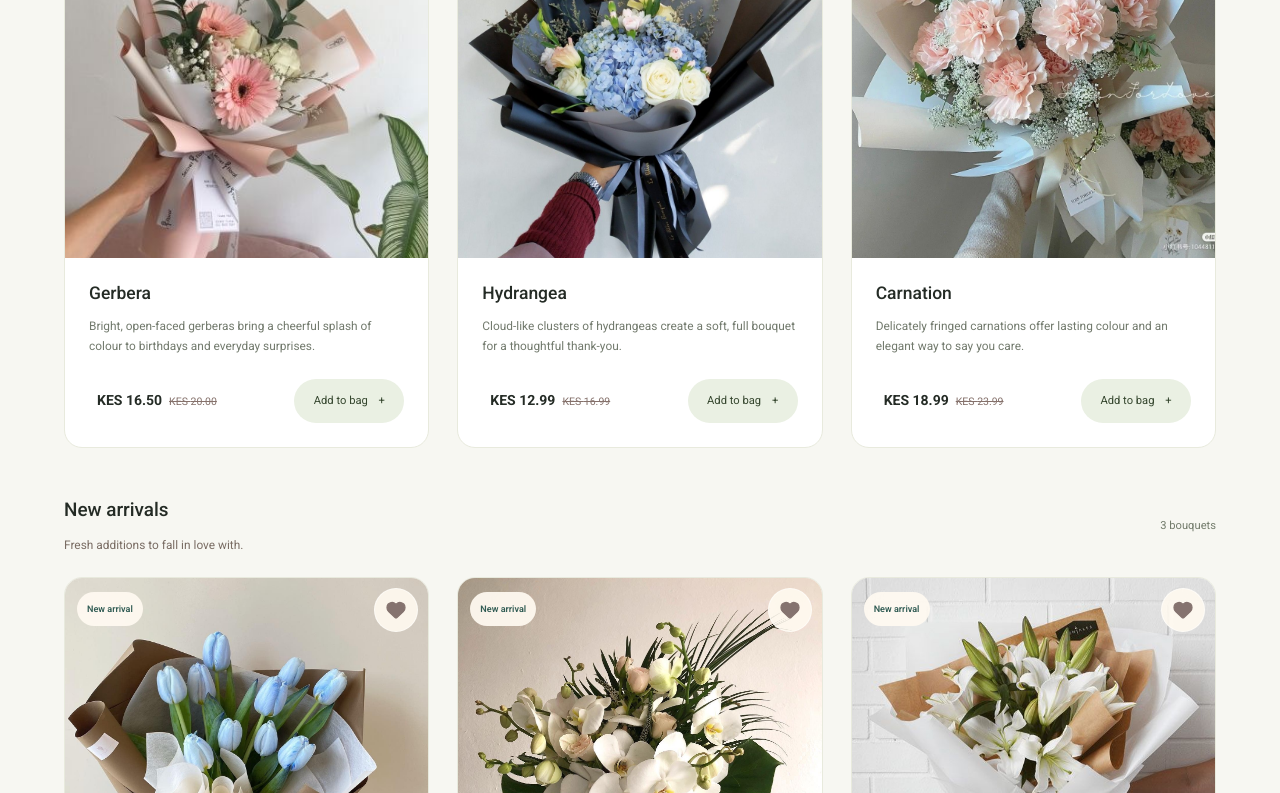
Test: sale bouquet uses its displayed discounted price in checkout
(page scrolled)
Expected: the text "KES 16.50" is shown, [97,390,162,410]
Click the button "Add to bag +" next to "20.00": [349, 401] box [294,379,404,423]
(page scrolled)
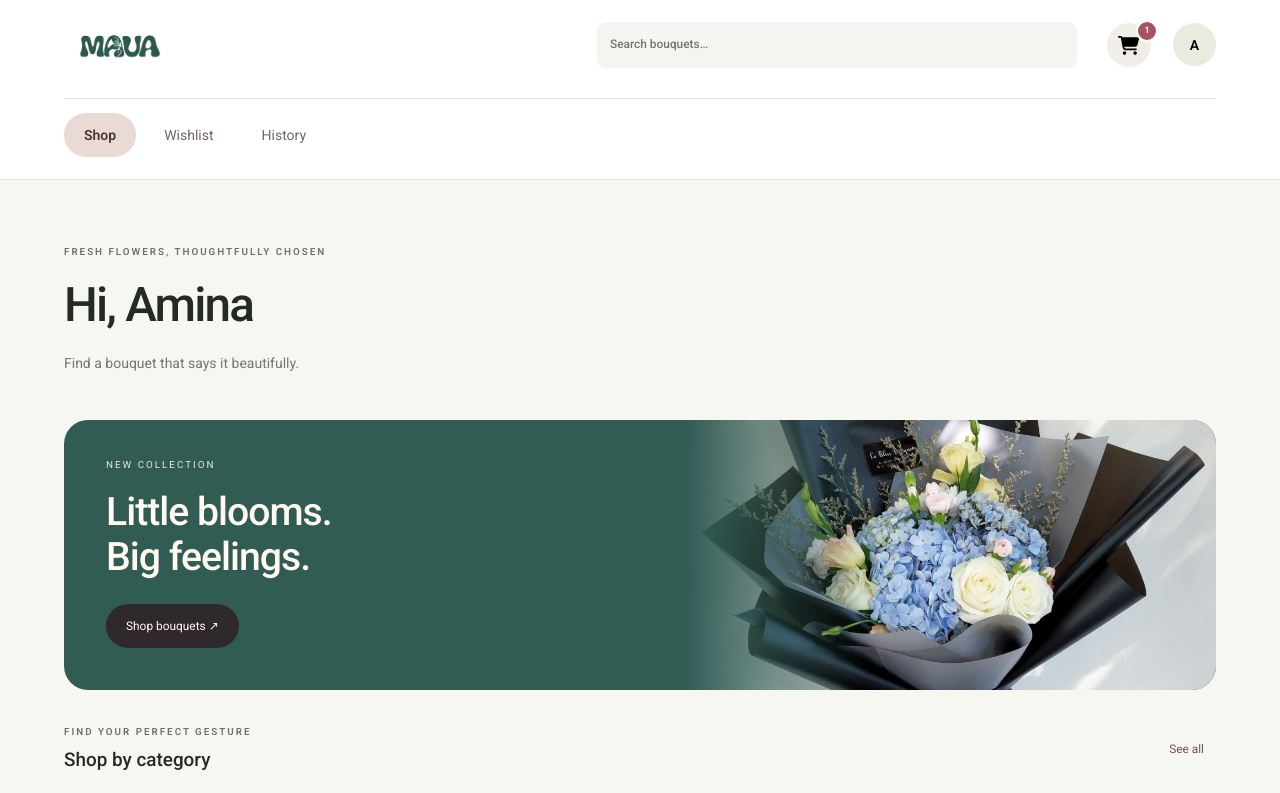
Click the button named "Cart (1 items)": [1129, 45] box [1107,23,1151,67]
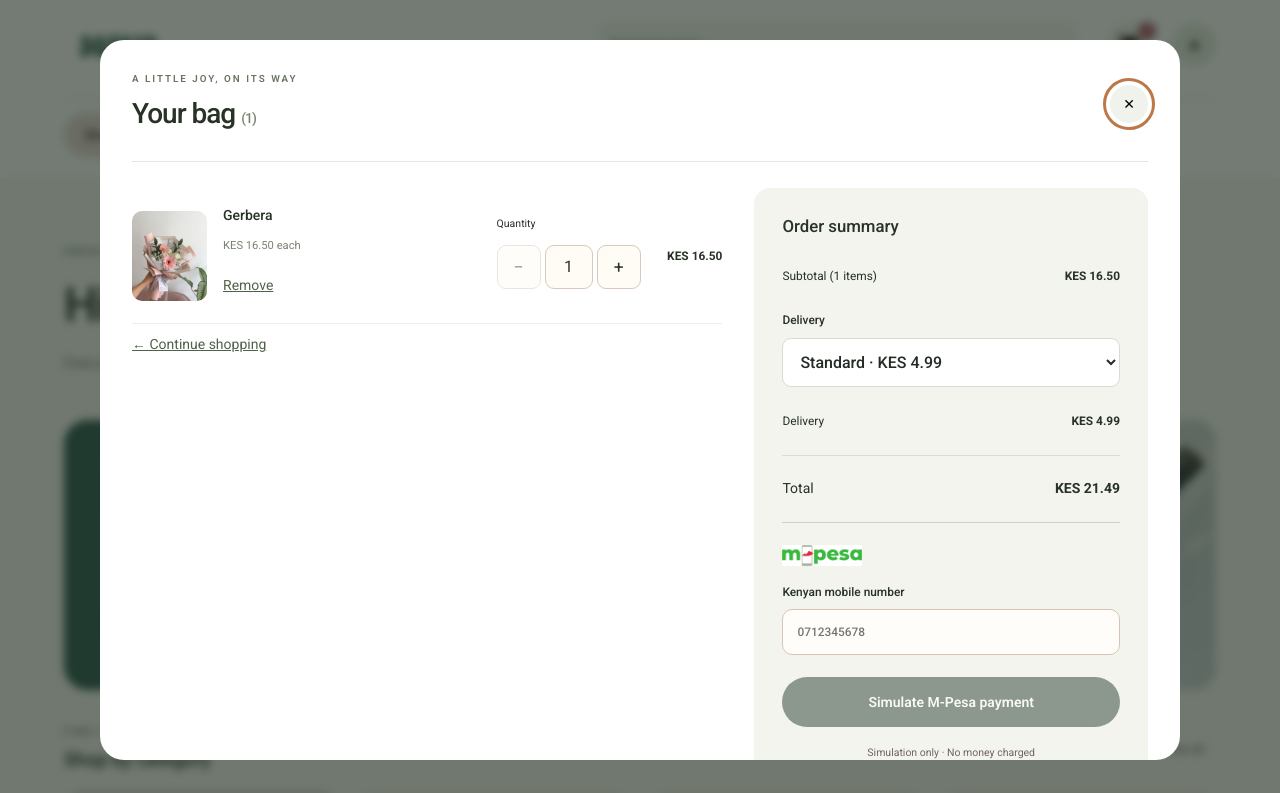
Now the text "KES 16.50 each" is shown, box [223,239,301,252]
Now the text "KES 21.49" is shown, box [1055,478,1120,498]
